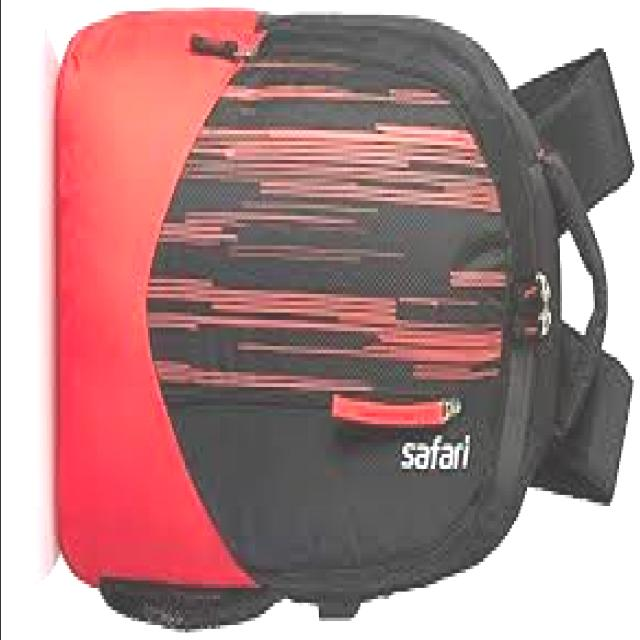backpack: (56, 5, 637, 634)
